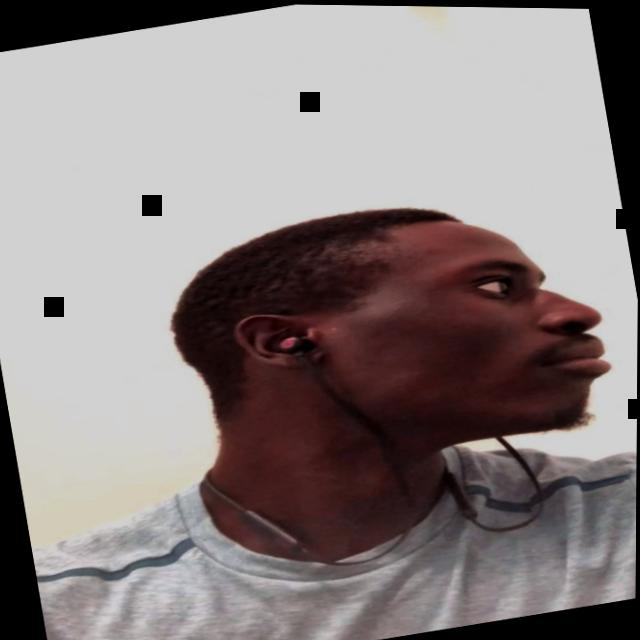NO-Mask: (272, 191, 623, 475)
